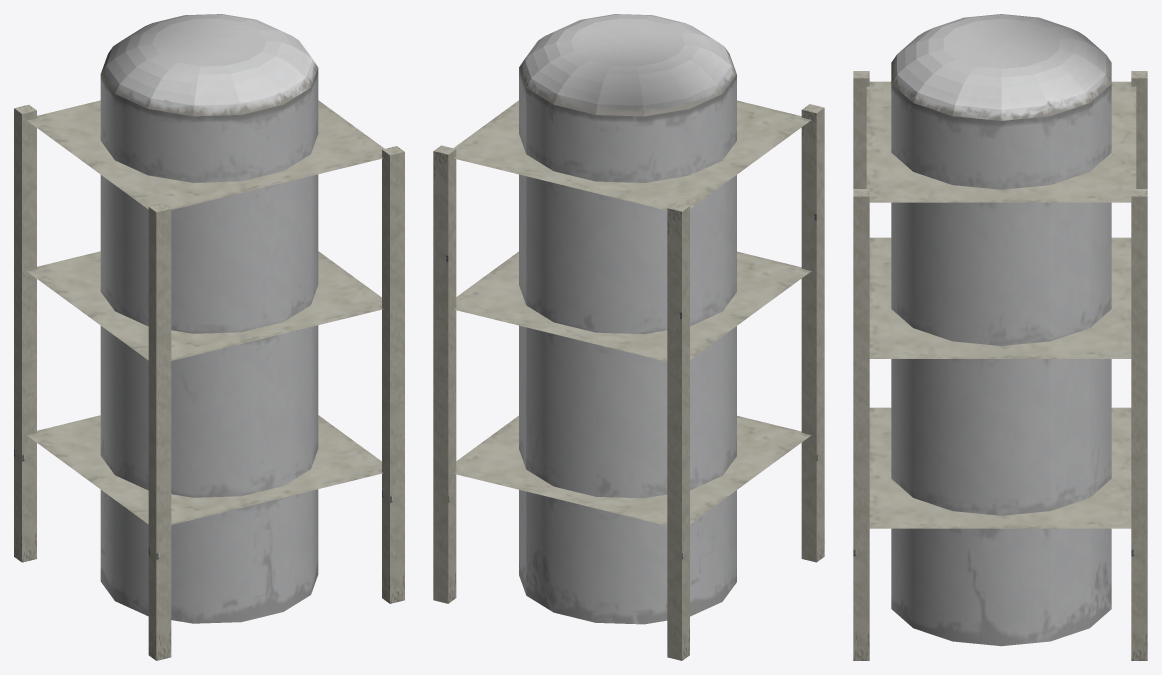
File: industrial_silos_03.fbx
3 views of the same model, side by side, from view 1: azimuth 30°, elevation 25°; view 2: azimuth 150°, elevation 25°; view 3: azimuth 270°, elevation 25° (orthographic). The views are drawn at different scales.
Visible parts, largest first — view 1: ind:silos_03; view 2: ind:silos_03; view 3: ind:silos_03.
Boxes of the visible parts, x1,y1,x2,y2 form: ind:silos_03: [14, 14, 404, 660]; ind:silos_03: [433, 14, 824, 660]; ind:silos_03: [853, 14, 1147, 660].
Size of the model in its own units: 4.32 by 8.9 by 4.28.
